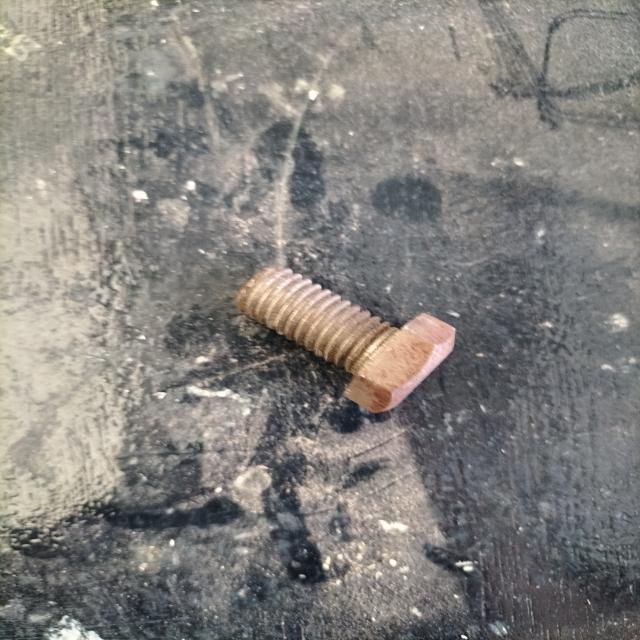bolt: (235, 267, 454, 412)
